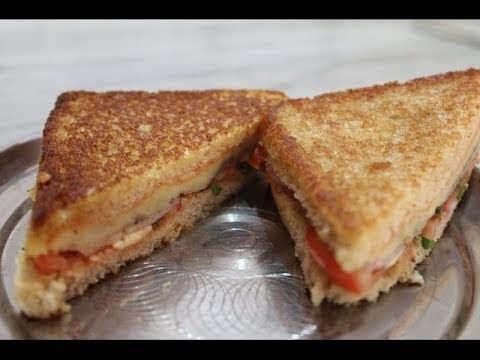sandwich: (8, 43, 305, 332), (224, 46, 480, 342)
